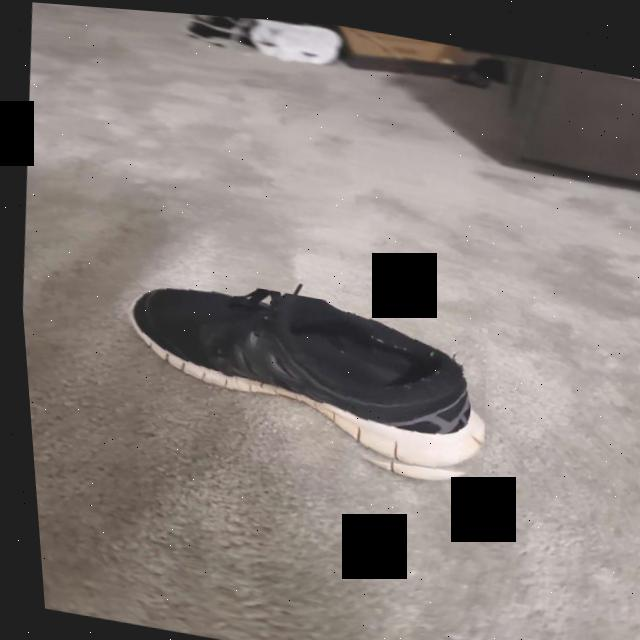shoe: (110, 263, 492, 485)
